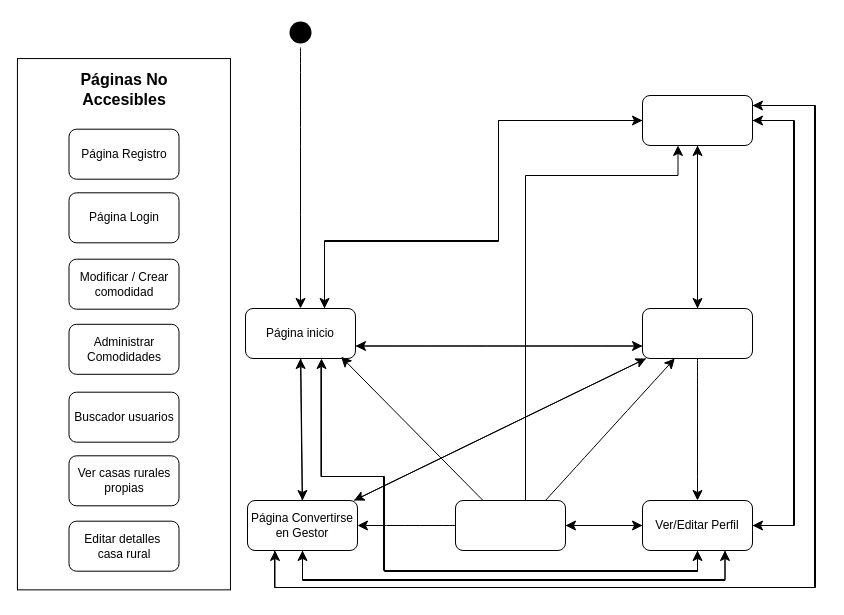
Image size: 844x615. Some labels were removed from this diagram. The shapes that lost their labels are listed below. From the top down, each one's box as (x1, y1, x2, y2) in pixels, then its label:
(642, 94, 752, 146): Ver reservas
(642, 308, 752, 358): Ver Detalles Casa Rural
(454, 500, 566, 550): Ver Casas Rurales de otro usuario
